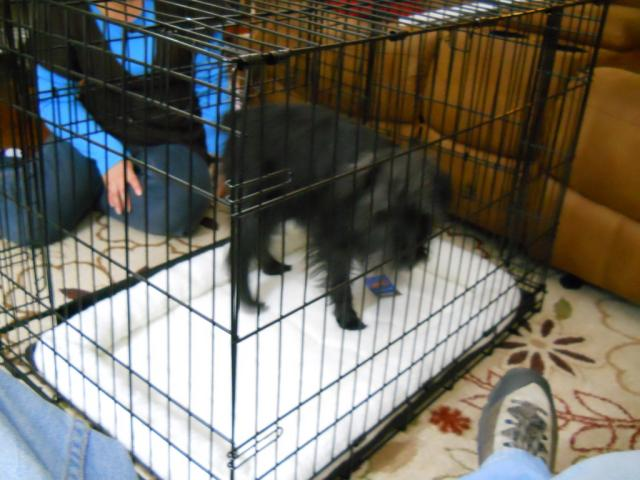Dog: (222, 103, 454, 331)
